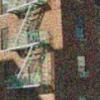stairs: (12, 2, 43, 48)
